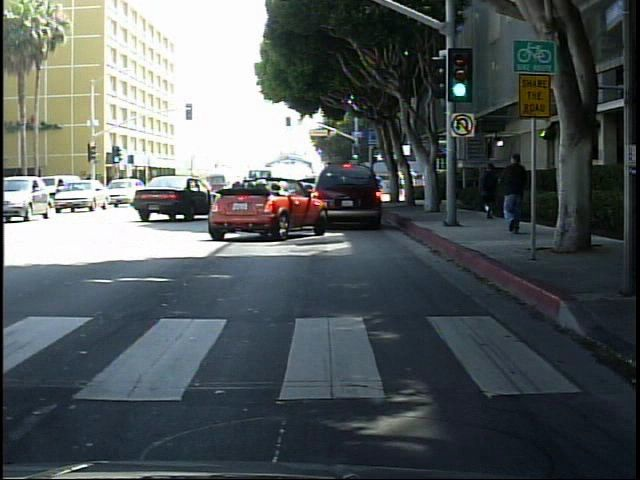person: (500, 146, 532, 237), (479, 157, 504, 221), (405, 164, 421, 201)
